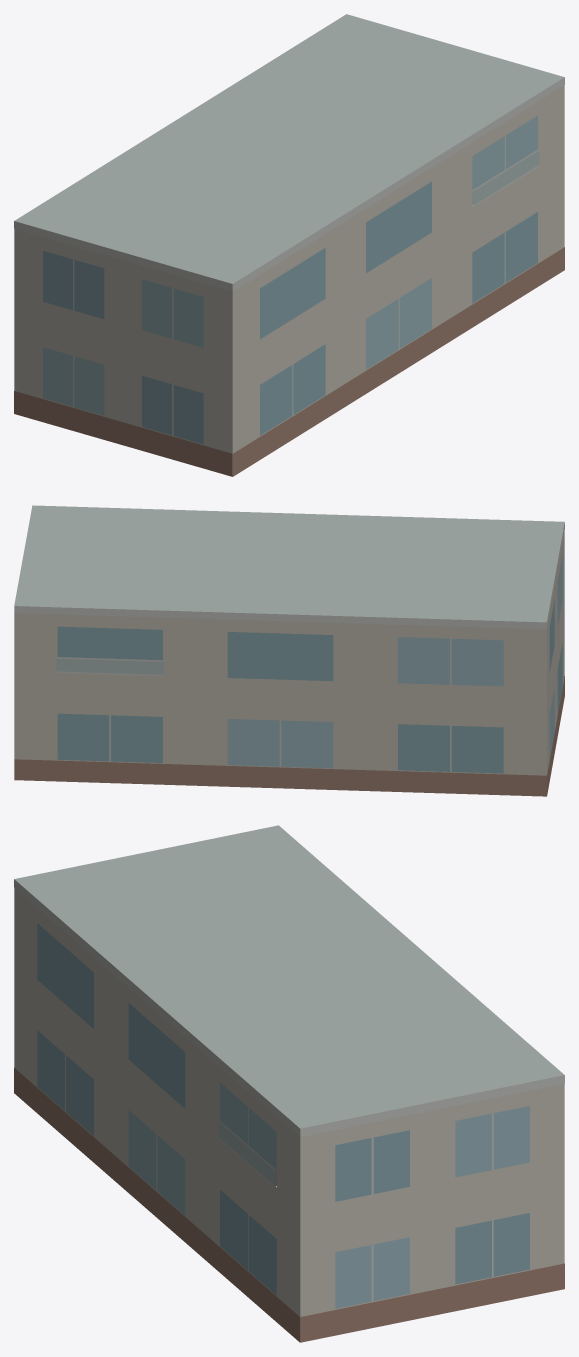
The model's file is survey-upis-32700772.glb.
3 renders of one model, top to bottom at view 1: azimuth 30°, elevation 25°; view 2: azimuth 150°, elevation 25°; view 3: azimuth 270°, elevation 25°, orthographic. The views are drawn at different scales.
Visible parts, largest first — view 1: survey-upis-32700772.tmp; view 2: survey-upis-32700772.tmp; view 3: survey-upis-32700772.tmp.
Boxes of the visible parts, x1,y1,x2,y2 form: survey-upis-32700772.tmp: (14,14,564,476); survey-upis-32700772.tmp: (14,505,564,796); survey-upis-32700772.tmp: (14,825,564,1342).
Bounding box in the file's own units: 18.56 × 6.1 × 14.23.
